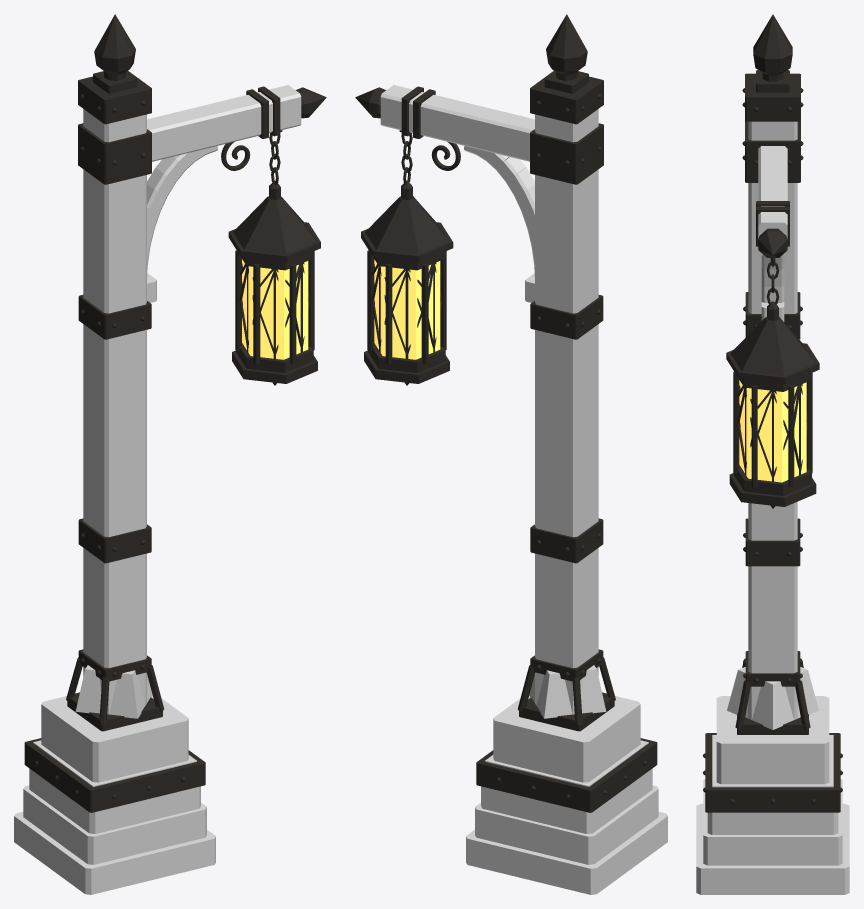
File: SilverbrookStreetLamp1.glb
The picture shows the model from 3 angles, left to right: view 1: azimuth 30°, elevation 25°; view 2: azimuth 150°, elevation 25°; view 3: azimuth 270°, elevation 25°; orthographic projection.
Visible parts, largest first — view 1: SM_SBStreetLamp1_Timber, SM_SBStreetLamp1_Details, SM_SBStreetLamp1_Plinth; view 2: SM_SBStreetLamp1_Timber, SM_SBStreetLamp1_Details, SM_SBStreetLamp1_Plinth; view 3: SM_SBStreetLamp1_Details, SM_SBStreetLamp1_Plinth, SM_SBStreetLamp1_Timber.
Boxes of the visible parts, x1,y1,x2,y2 form: SM_SBStreetLamp1_Timber: (75, 85, 301, 718); SM_SBStreetLamp1_Details: (24, 14, 326, 812); SM_SBStreetLamp1_Plinth: (14, 696, 215, 894); SM_SBStreetLamp1_Timber: (380, 85, 606, 718); SM_SBStreetLamp1_Details: (355, 14, 657, 812); SM_SBStreetLamp1_Plinth: (466, 696, 667, 894); SM_SBStreetLamp1_Details: (703, 14, 842, 812); SM_SBStreetLamp1_Plinth: (696, 696, 849, 894); SM_SBStreetLamp1_Timber: (727, 121, 818, 729).
Size of the model in its own units: 1.44 by 4.16 by 0.68.
